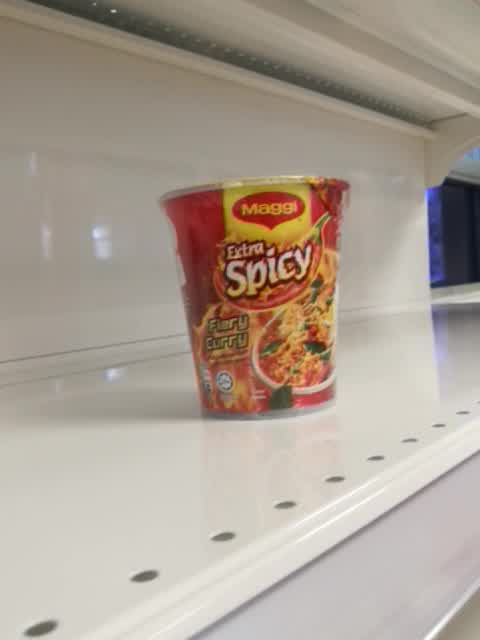maggi: (158, 175, 350, 422)
